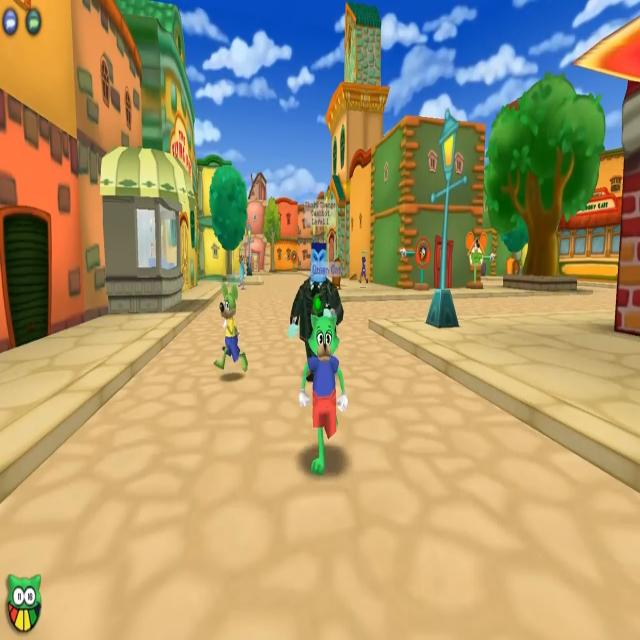shortchange: (290, 244, 346, 472)
